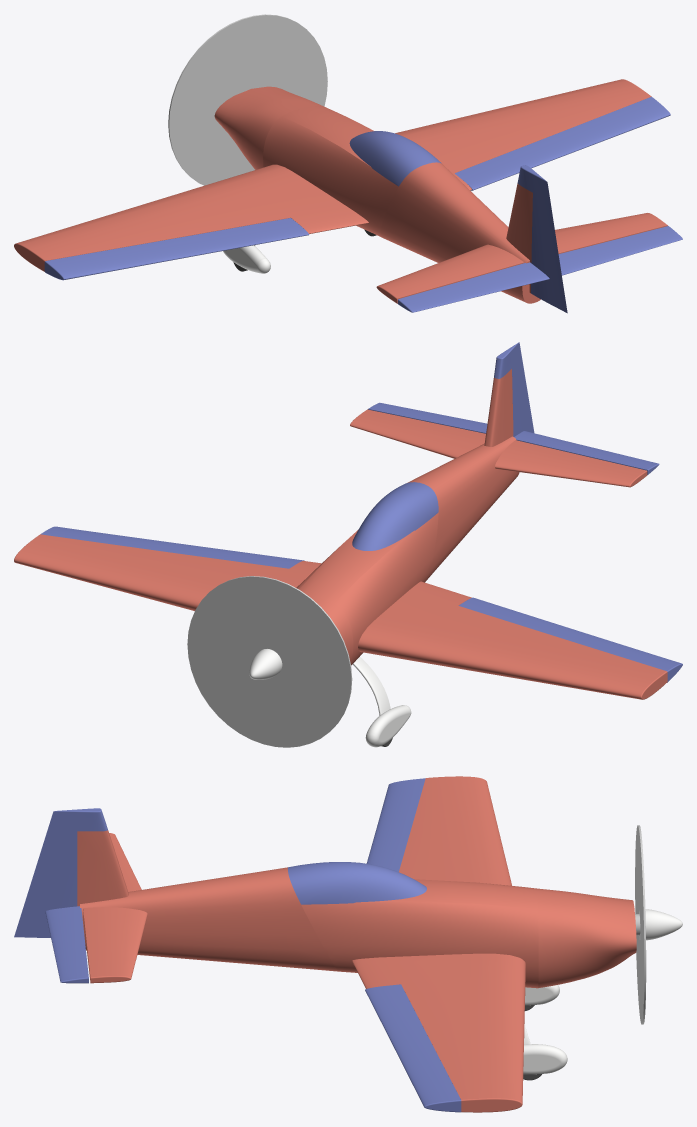
The picture shows the model from 3 angles, top to bottom: view 1: azimuth 30°, elevation 25°; view 2: azimuth 150°, elevation 25°; view 3: azimuth 270°, elevation 25°; orthographic projection. The views are drawn at different scales.
Visible parts, largest first — view 1: Körper12, Körper24, Körper3, Körper2, Körper15, Körper6, Körper5, Körper19; view 2: Körper12, Körper24, Körper5, Körper3, Körper2, Körper15, Körper6, Körper19, Körper16, Körper17; view 3: Körper12, Körper6, Körper15, Körper5, Körper3, Körper2, Körper24, Körper21, Körper16, Körper19.
Boxes of the visible parts, left/top/right/bottom form: Körper12: left=14, top=79, right=667, bottom=303; Körper24: left=168, top=14, right=327, bottom=185; Körper3: left=44, top=218, right=309, bottom=280; Körper2: left=397, top=226, right=682, bottom=312; Körper15: left=455, top=96, right=670, bottom=190; Körper6: left=517, top=165, right=567, bottom=313; Körper5: left=349, top=131, right=441, bottom=186; Körper19: left=223, top=245, right=270, bottom=273; Körper12: left=14, top=369, right=667, bottom=699; Körper24: left=187, top=576, right=352, bottom=747; Körper5: left=352, top=482, right=438, bottom=550; Körper3: left=459, top=597, right=682, bottom=682; Körper2: left=367, top=402, right=659, bottom=474; Körper15: left=41, top=526, right=304, bottom=568; Körper6: left=494, top=342, right=534, bottom=436; Körper19: left=365, top=705, right=411, bottom=747; Körper16: left=249, top=649, right=282, bottom=679; Körper17: left=352, top=657, right=390, bottom=715; Körper12: left=77, top=776, right=636, bottom=1112; Körper6: left=14, top=808, right=107, bottom=937; Körper15: left=365, top=984, right=461, bottom=1112; Körper5: left=287, top=862, right=426, bottom=904; Körper3: left=366, top=778, right=425, bottom=871; Körper2: left=45, top=906, right=88, bottom=983; Körper24: left=635, top=825, right=646, bottom=1024; Körper21: left=523, top=1044, right=567, bottom=1074; Körper16: left=639, top=909, right=682, bottom=940; Körper19: left=525, top=985, right=559, bottom=1005.
Size of the model in its own units: 7.09 by 2.48 by 6.18.
